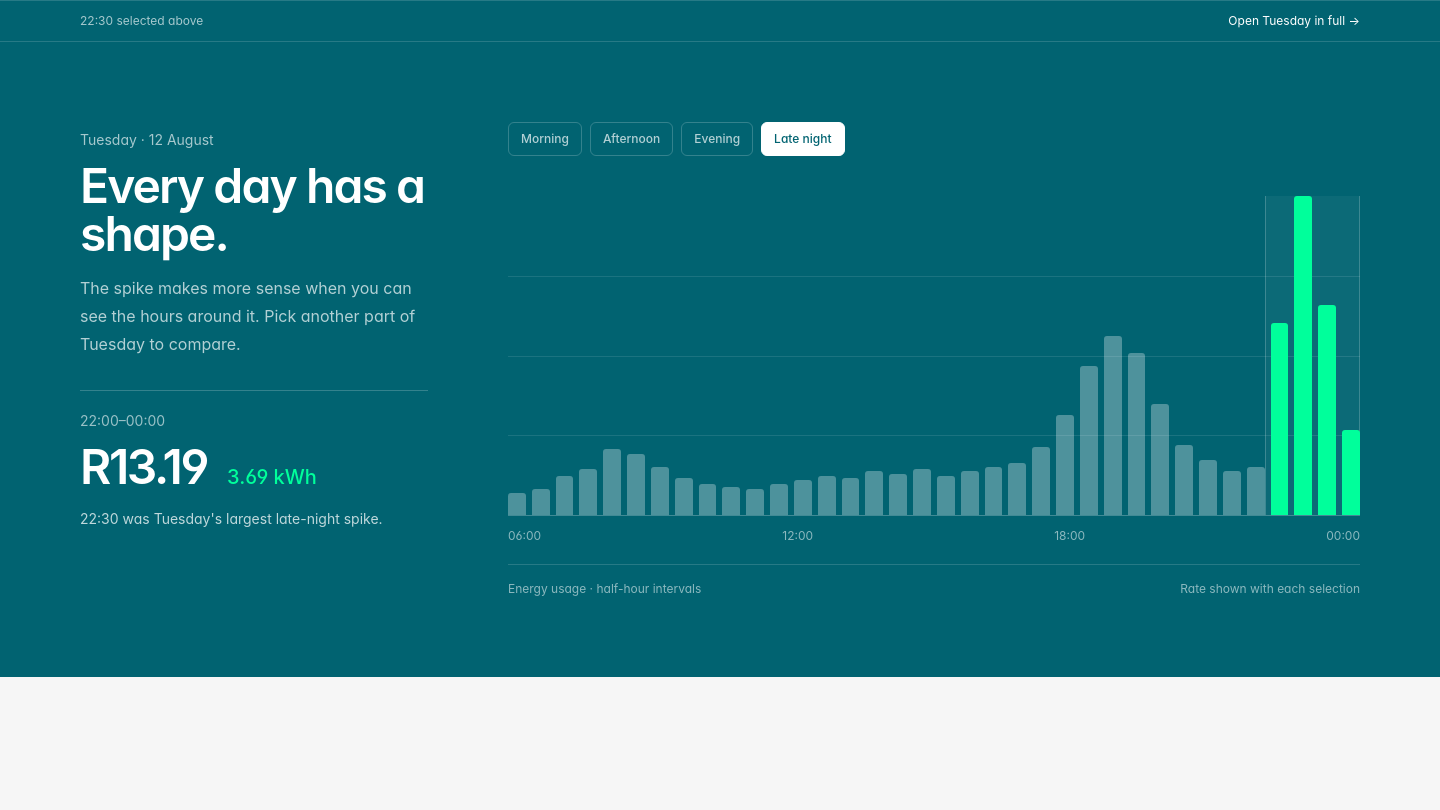
Test case: public NewinMeter demos › lets visitors inspect different parts of a day
Click the button "Morning" at (545, 139), box [508,122,582,156]
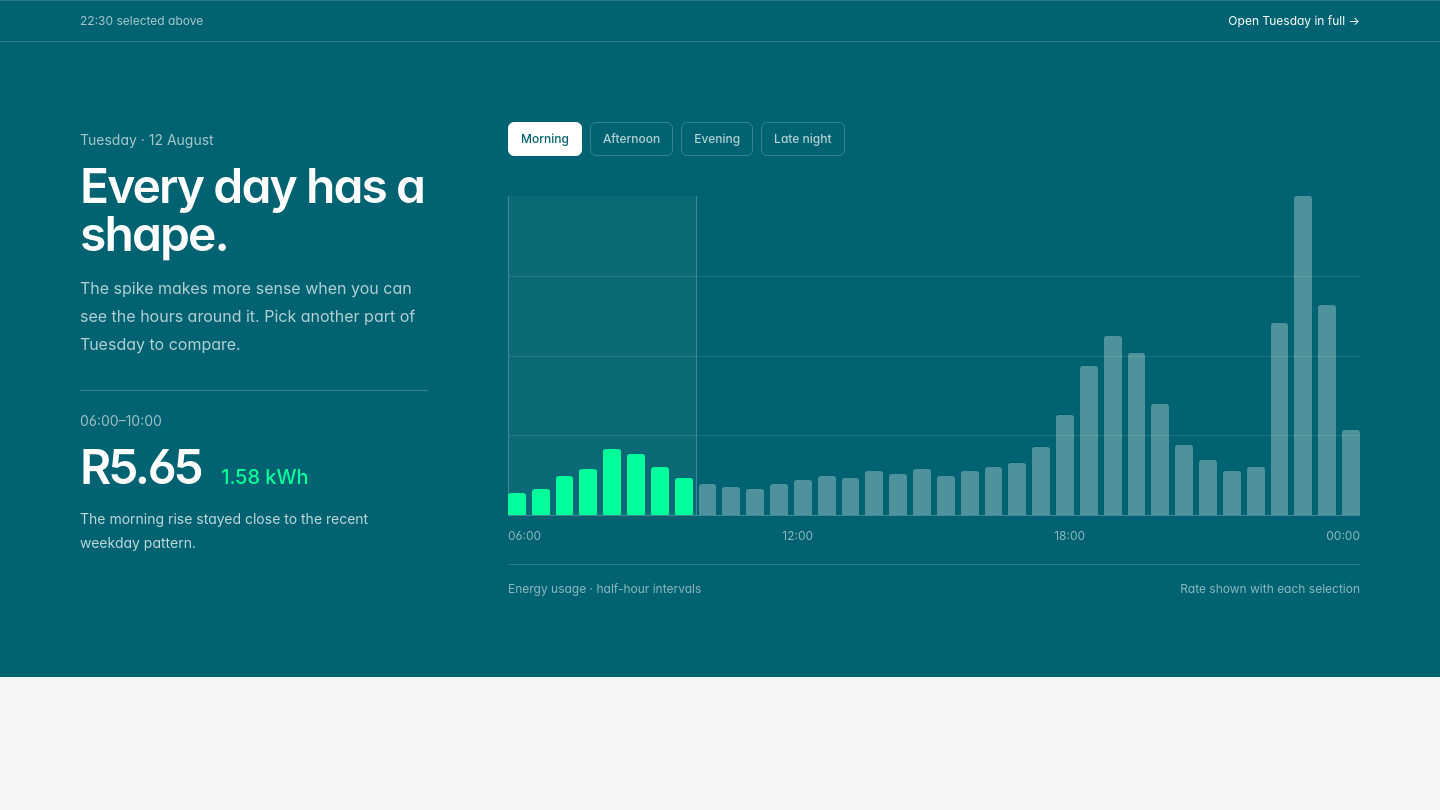
Result: the text "06:00–10:00" is shown at [80,412,162,429]
Result: the text "The morning rise stayed close to the recent weekday pattern." is shown at [80,510,368,551]
Click the button named "18:00, 0.68 kWh. Select Evening." at (1089, 356), box [1080,196,1098,515]
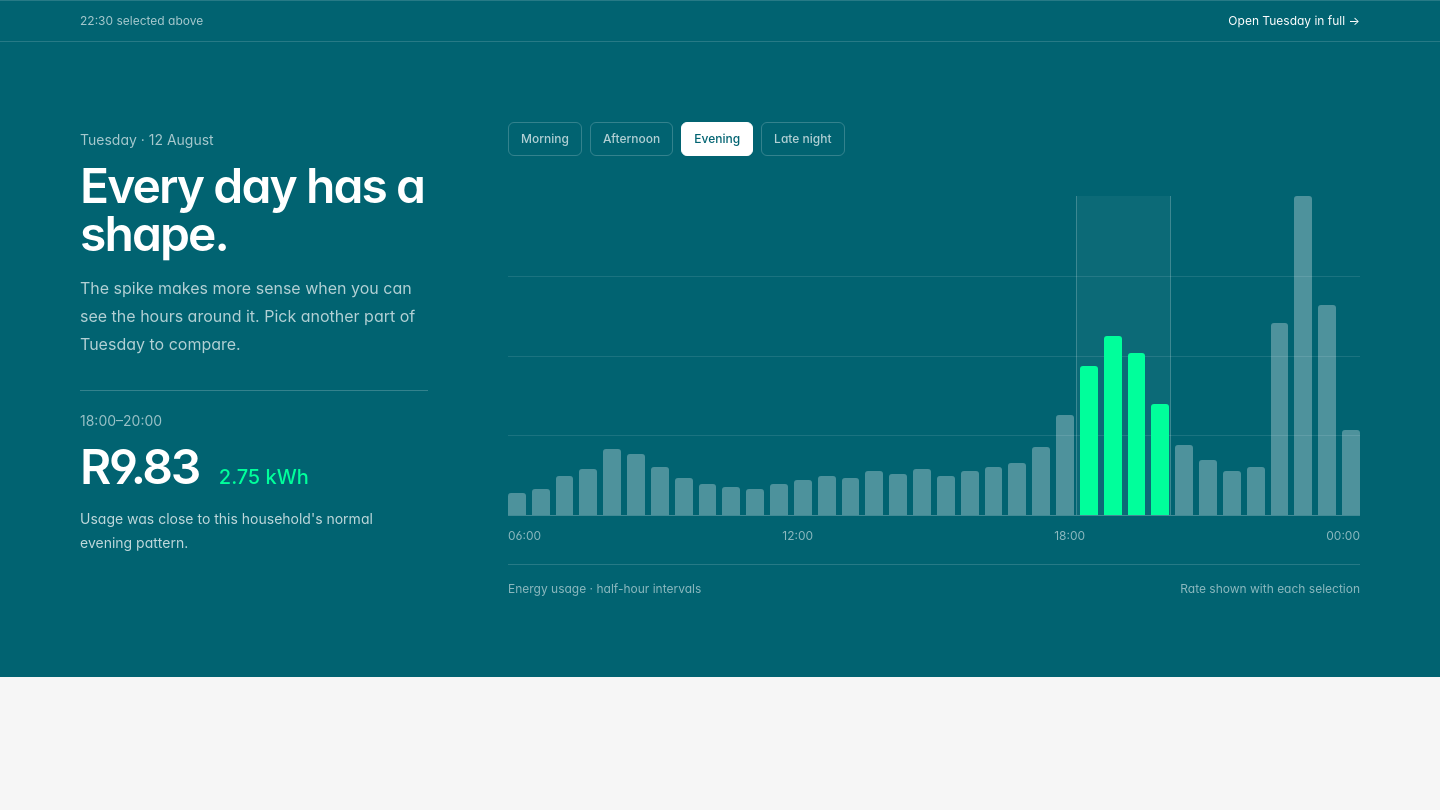
Result: the text "18:00–20:00" is shown at [80,412,162,429]
